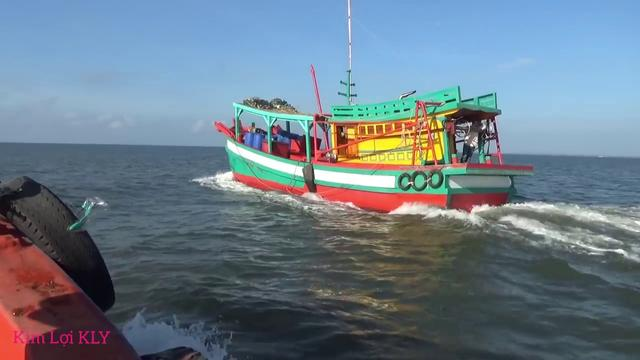Ship: (210, 86, 543, 217)
